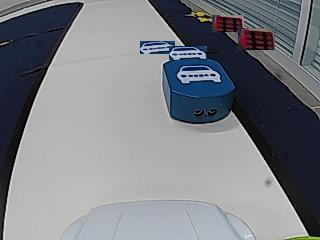safety: (176, 64, 223, 83)
